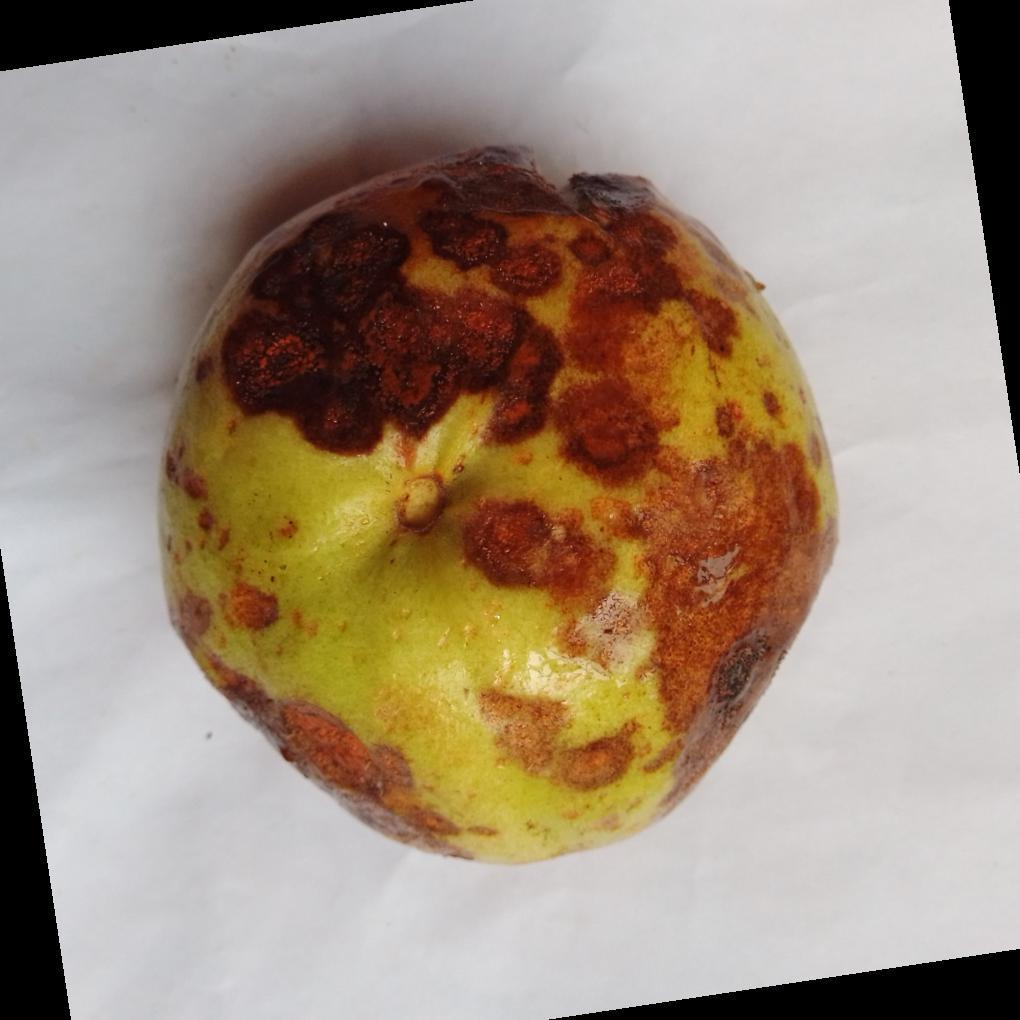FreshOrange: (155, 147, 839, 871)
